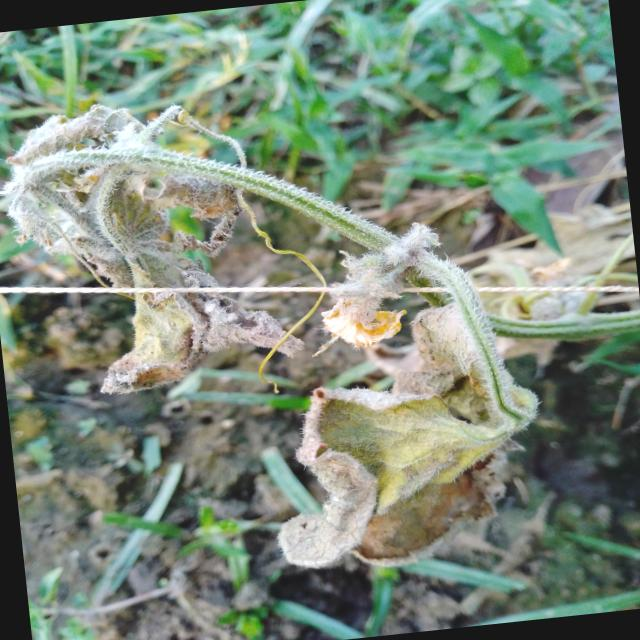cucumber_bacterial: (237, 238, 538, 569), (77, 184, 304, 420), (0, 100, 230, 268)
